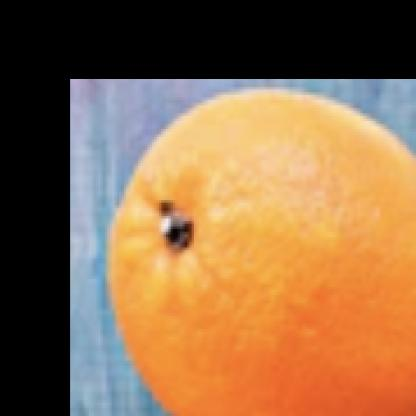fresh: (108, 98, 416, 414)
